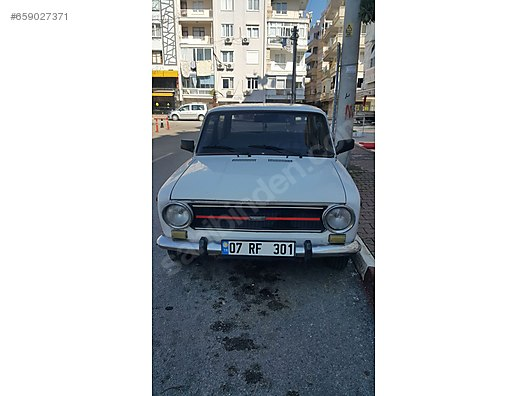murat: (155, 103, 366, 270)
